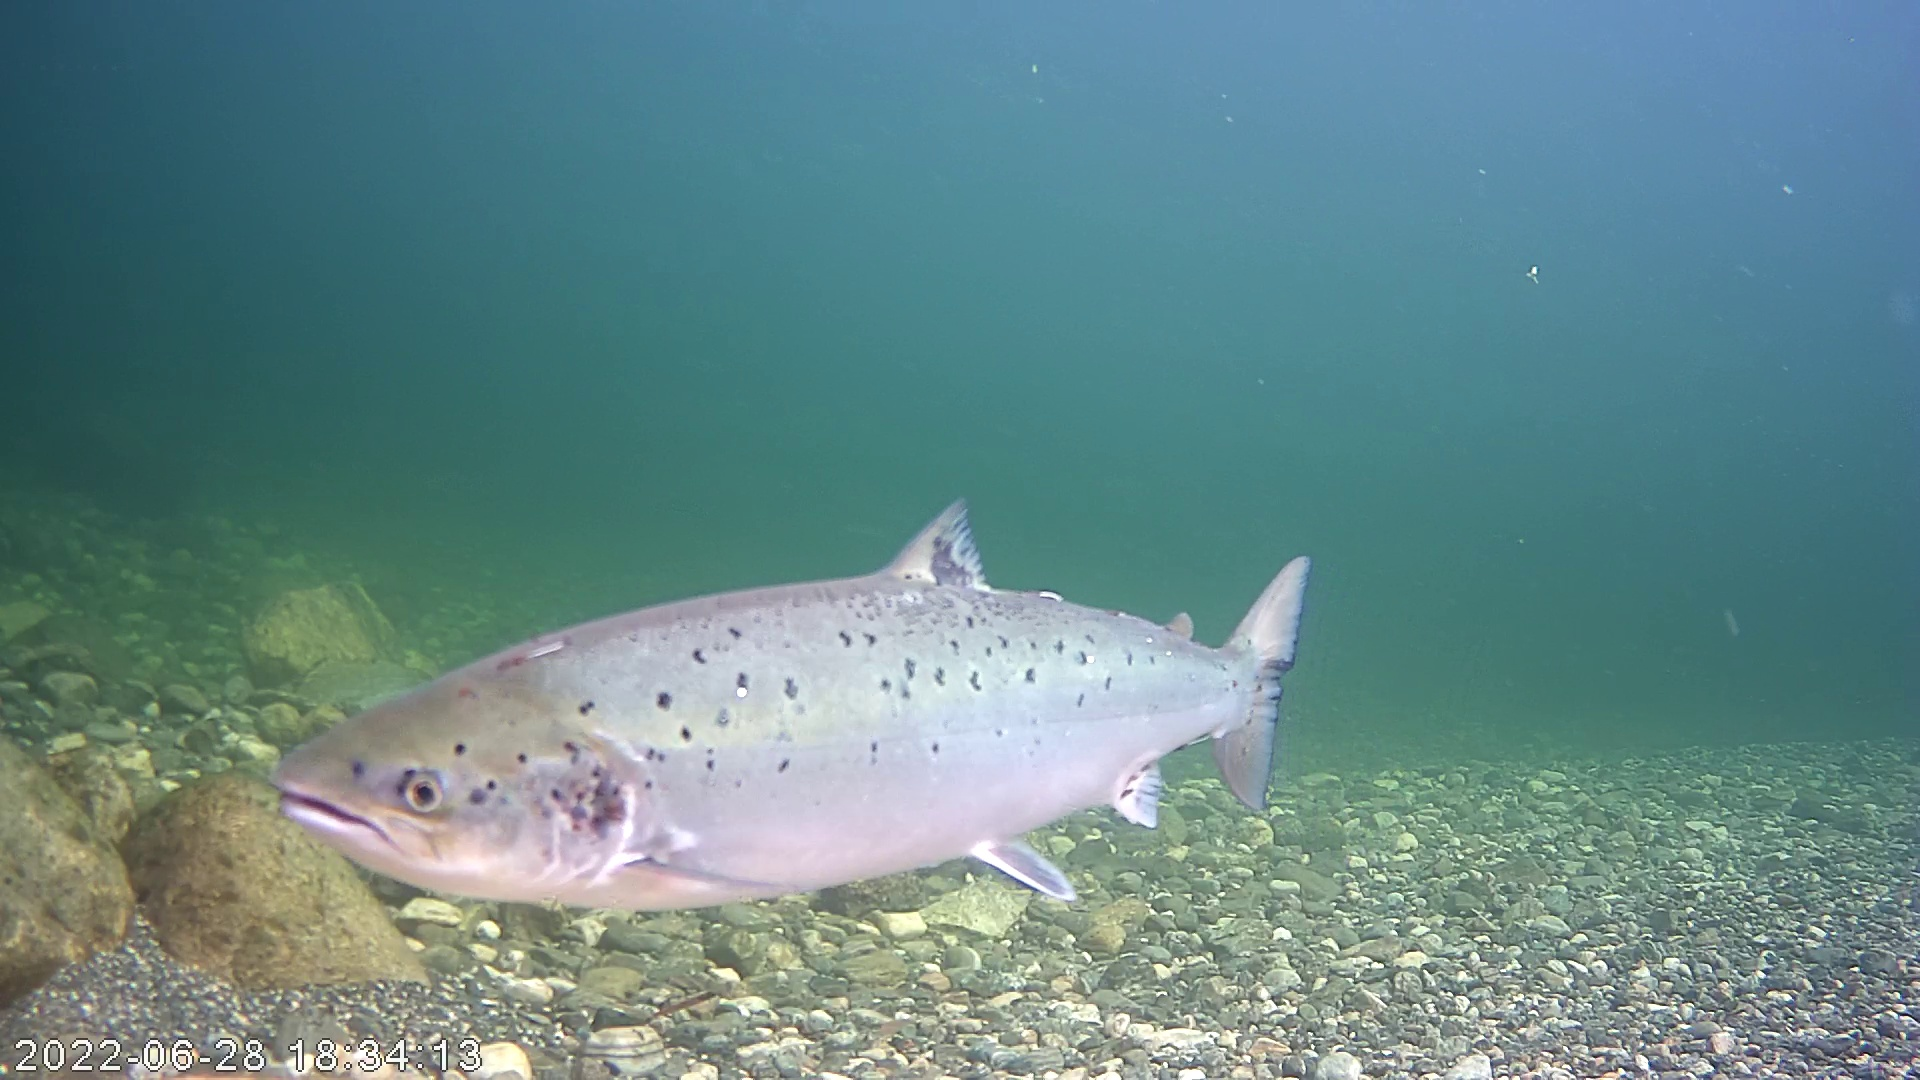salmon: (272, 462, 1317, 956)
